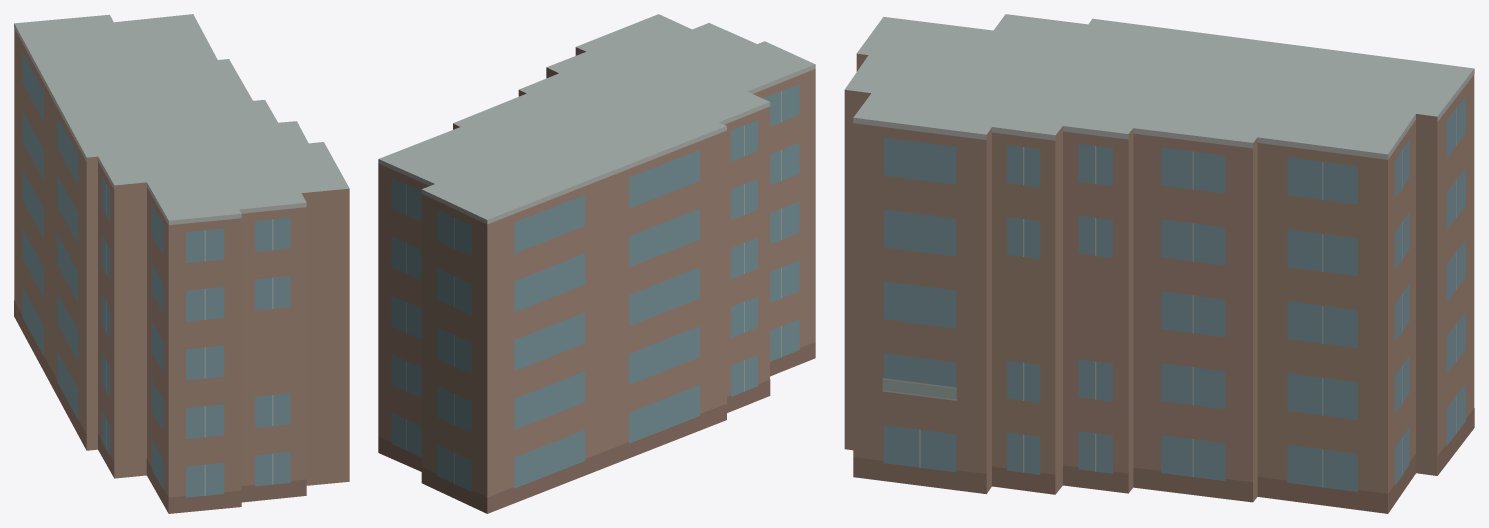
File: survey-upis-32562034.glb
3 renders of one model, left to right at view 1: azimuth 30°, elevation 25°; view 2: azimuth 150°, elevation 25°; view 3: azimuth 270°, elevation 25°, orthographic. The views are drawn at different scales.
Parts seen in each view (by area): view 1: survey-upis-32562034.tmp; view 2: survey-upis-32562034.tmp; view 3: survey-upis-32562034.tmp.
Boxes of the visible parts, left/top/right/bottom form: survey-upis-32562034.tmp: left=14, top=14, right=349, bottom=513; survey-upis-32562034.tmp: left=378, top=14, right=815, bottom=513; survey-upis-32562034.tmp: left=844, top=14, right=1474, bottom=513.
Size of the model in its own units: 13.5 by 16.1 by 25.58.
